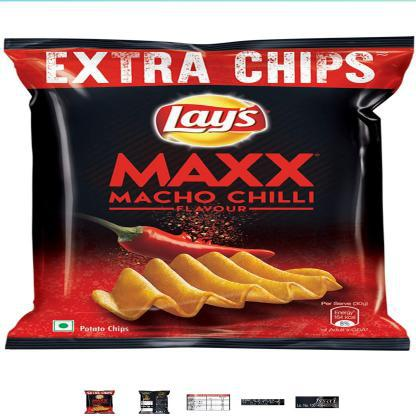max_chili: (5, 45, 414, 350), (134, 389, 172, 415), (82, 392, 118, 414)
